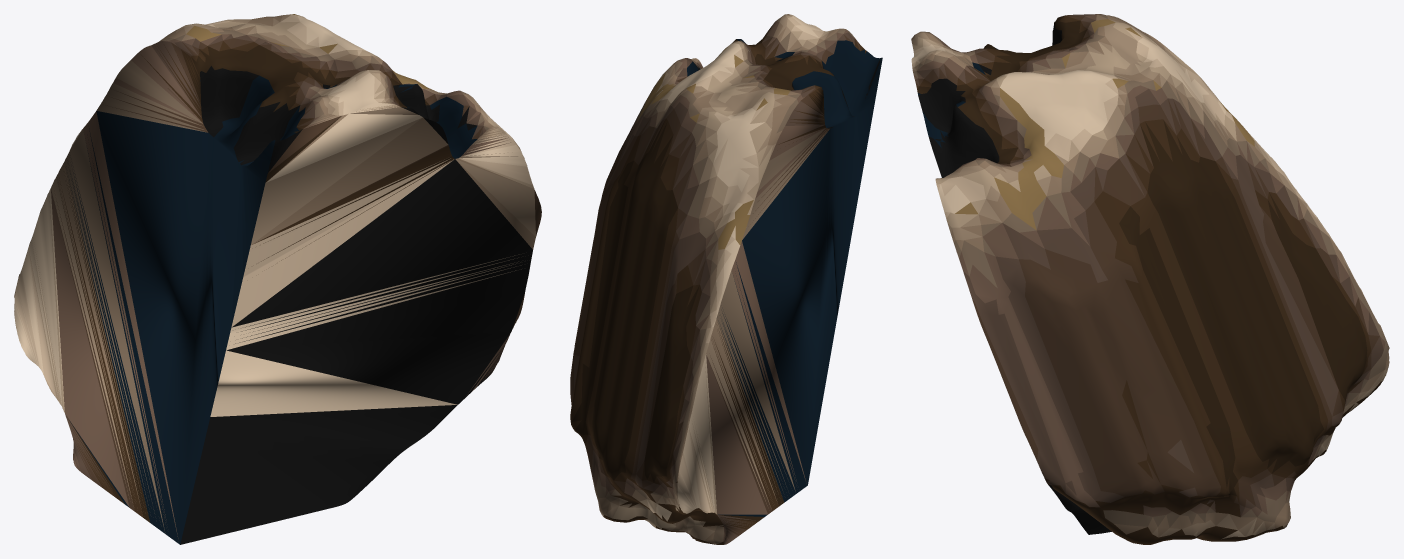
File: rock_column_wreck_tr.glb
The picture shows the model from 3 angles, left to right: view 1: azimuth 30°, elevation 25°; view 2: azimuth 150°, elevation 25°; view 3: azimuth 270°, elevation 25°; orthographic projection. The views are drawn at different scales.
Parts seen in each view (by area): view 1: rock_column_wreck_tr; view 2: rock_column_wreck_tr; view 3: rock_column_wreck_tr.
Part boxes in pixels (x1,y1,x2,y2): rock_column_wreck_tr: [14, 14, 541, 544]; rock_column_wreck_tr: [570, 14, 882, 544]; rock_column_wreck_tr: [911, 14, 1389, 544].
Bounding box in the file's own units: 22.17 × 35.49 × 33.5.
